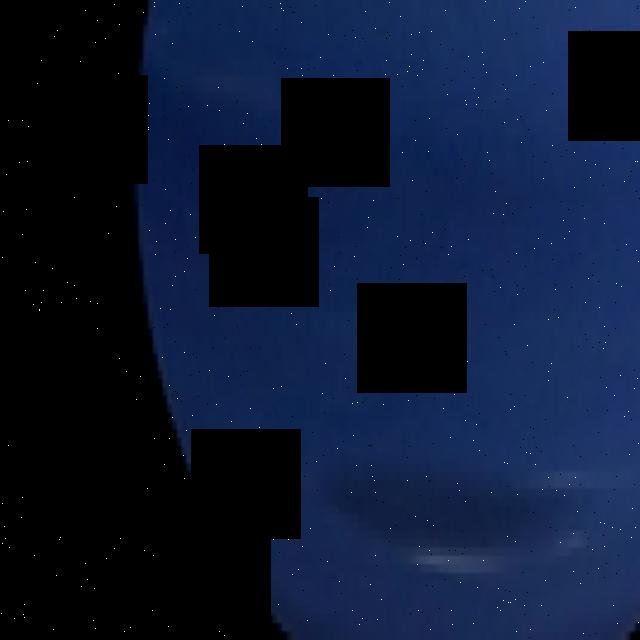Neptune: (133, 0, 640, 640)
